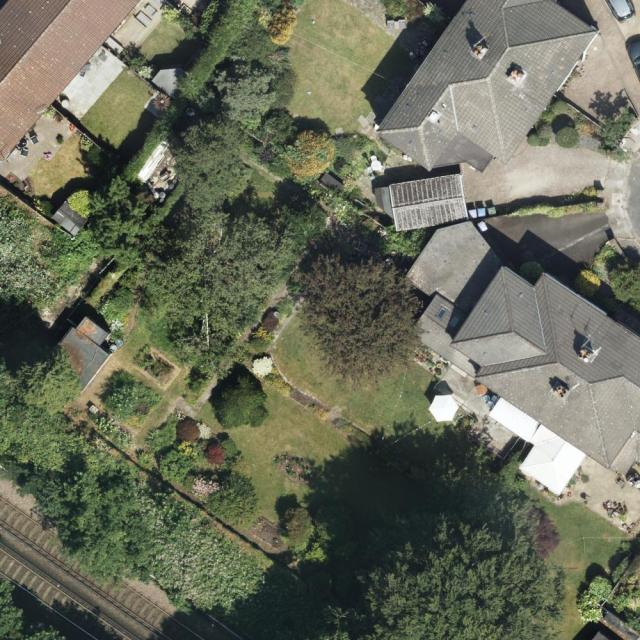roof: (388, 175, 640, 478), (374, 0, 605, 171), (0, 0, 146, 161)
skylight: (430, 303, 449, 326), (446, 310, 465, 330)
